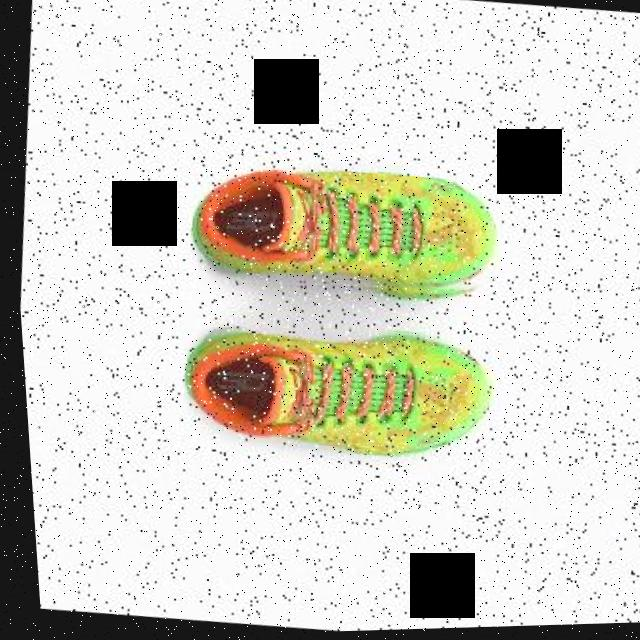shoe: (169, 307, 495, 473), (179, 154, 504, 314)
